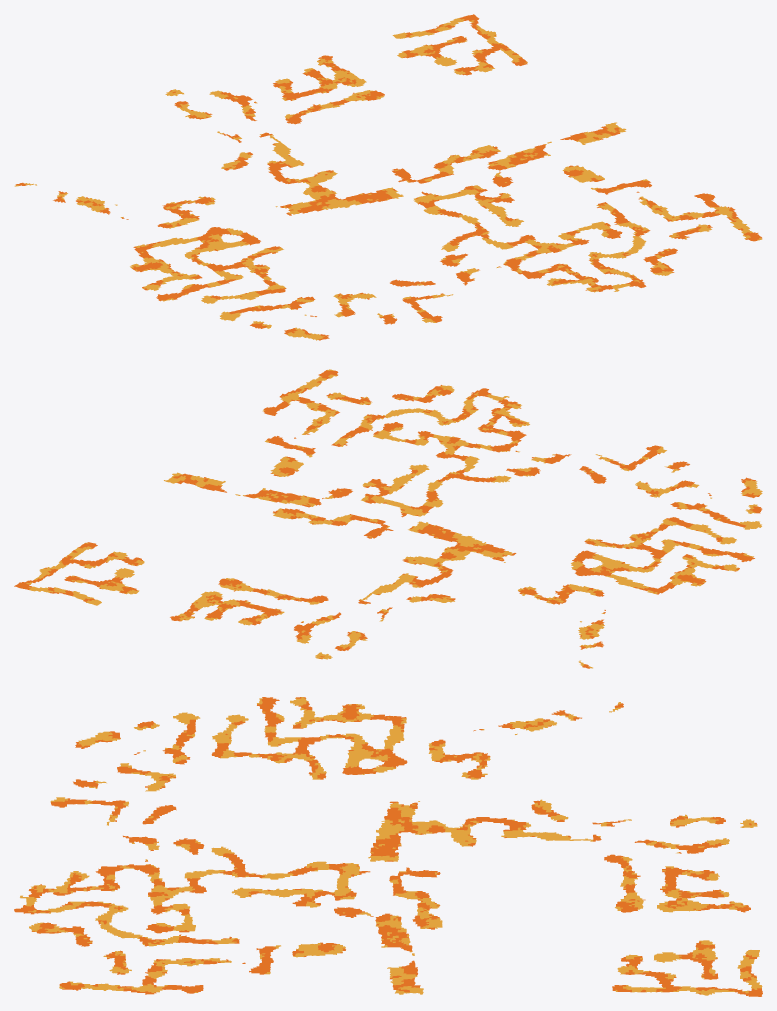
The model's file is Dungeon-3B-Tide.fbx.
The picture shows the model from 3 angles, top to bottom: view 1: azimuth 30°, elevation 25°; view 2: azimuth 150°, elevation 25°; view 3: azimuth 270°, elevation 25°; orthographic projection. The views are drawn at different scales.
Visible parts, largest first — view 1: Dungeon-3B-Tide; view 2: Dungeon-3B-Tide; view 3: Dungeon-3B-Tide.
Boxes of the visible parts, x1,y1,x2,y2 form: Dungeon-3B-Tide: [14, 14, 762, 340]; Dungeon-3B-Tide: [14, 369, 762, 668]; Dungeon-3B-Tide: [14, 697, 762, 996].
Size of the model in its own units: 112 by 0 by 119.
